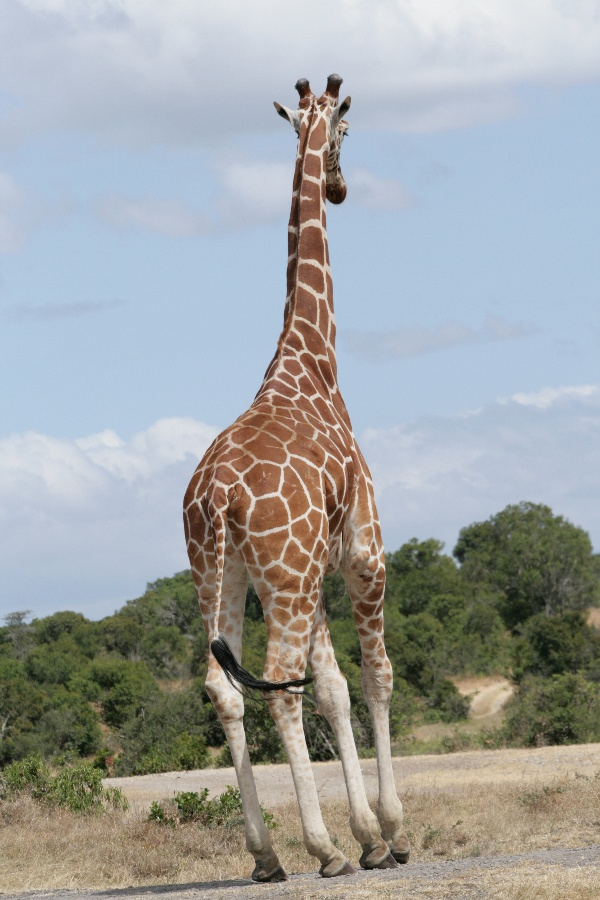giraffe: (160, 60, 417, 879)
